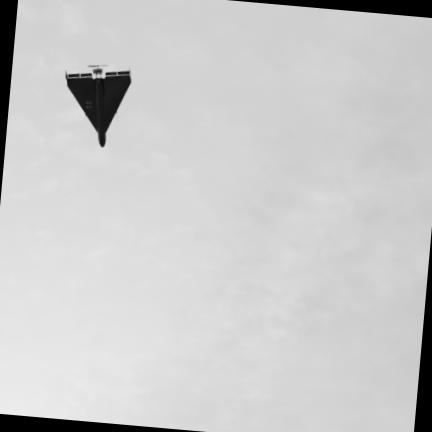Shahed: (66, 63, 131, 146)
